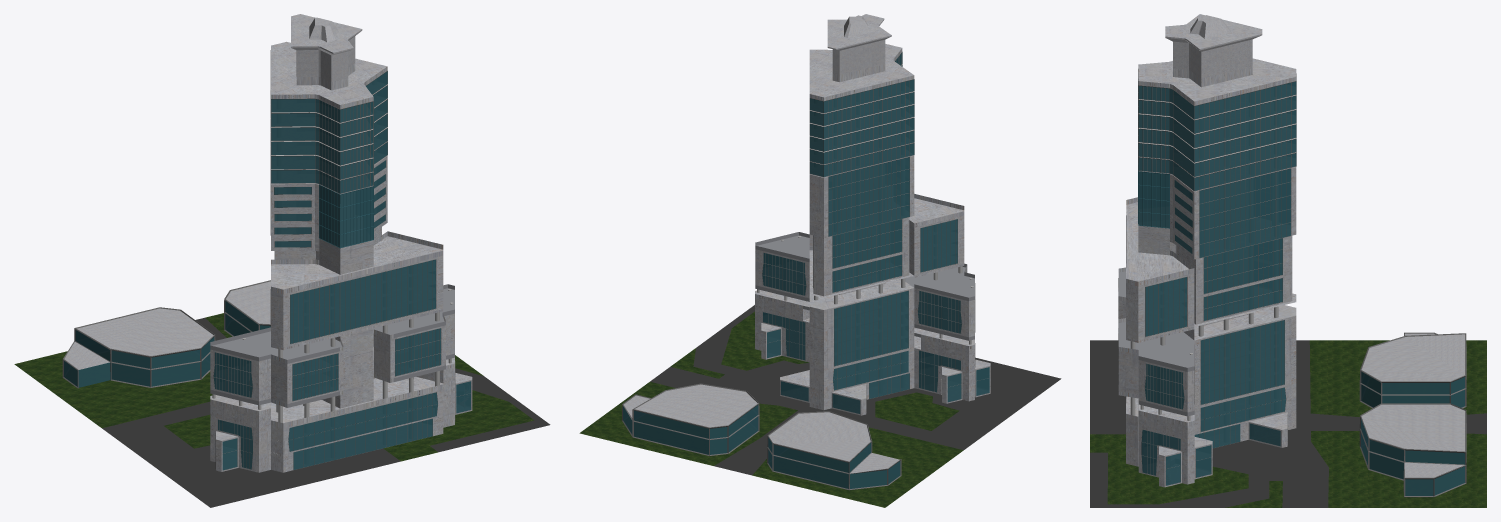
Rendered from highrise_concept.glb.
3 renders of one model, left to right at view 1: azimuth 30°, elevation 25°; view 2: azimuth 150°, elevation 25°; view 3: azimuth 270°, elevation 25°, orthographic. The views are drawn at different scales.
Visible parts, largest first — view 1: Cone, Plane.001, Cone.001, Cone.003, Cone.002, Cylinder; view 2: Cone, Plane.001, Cone.001; view 3: Cone, Plane.001, Cone.001, Cone.003.
Part boxes in pixels (left/top/right/bottom): Cone: left=210, top=14, right=472, bottom=472; Plane.001: left=14, top=280, right=550, bottom=507; Cone.001: left=210, top=284, right=454, bottom=363; Cone.003: left=271, top=231, right=443, bottom=294; Cone.002: left=210, top=353, right=454, bottom=407; Cylinder: left=278, top=312, right=439, bottom=422; Cone: left=755, top=14, right=990, bottom=415; Plane.001: left=579, top=305, right=1061, bottom=507; Cone.001: left=755, top=232, right=974, bottom=301; Cone: left=1118, top=14, right=1296, bottom=487; Plane.001: left=1090, top=332, right=1486, bottom=507; Cone.001: left=1118, top=267, right=1194, bottom=371; Cone.003: left=1126, top=197, right=1194, bottom=286.
Bounding box in the file's own units: 79.89 × 90.15 × 79.89.
Materials: 14 (4 with a texture image).
